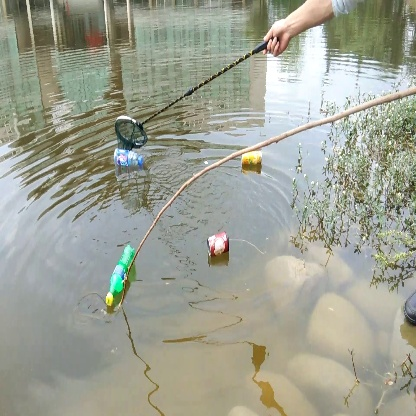bottle: (103, 242, 138, 307), (205, 229, 233, 261), (112, 147, 148, 170), (237, 150, 266, 172)
